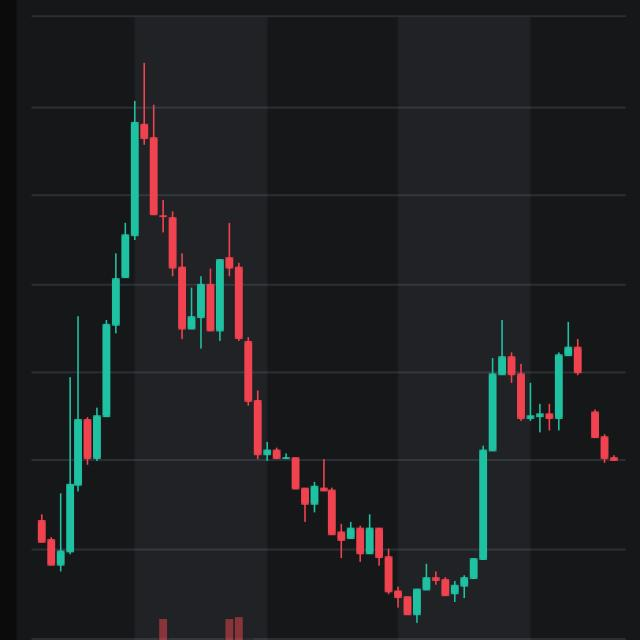Double-Bottom: (362, 492, 497, 630)
Double-Top: (463, 318, 618, 509)
Head-Shoulders: (41, 32, 273, 579)
